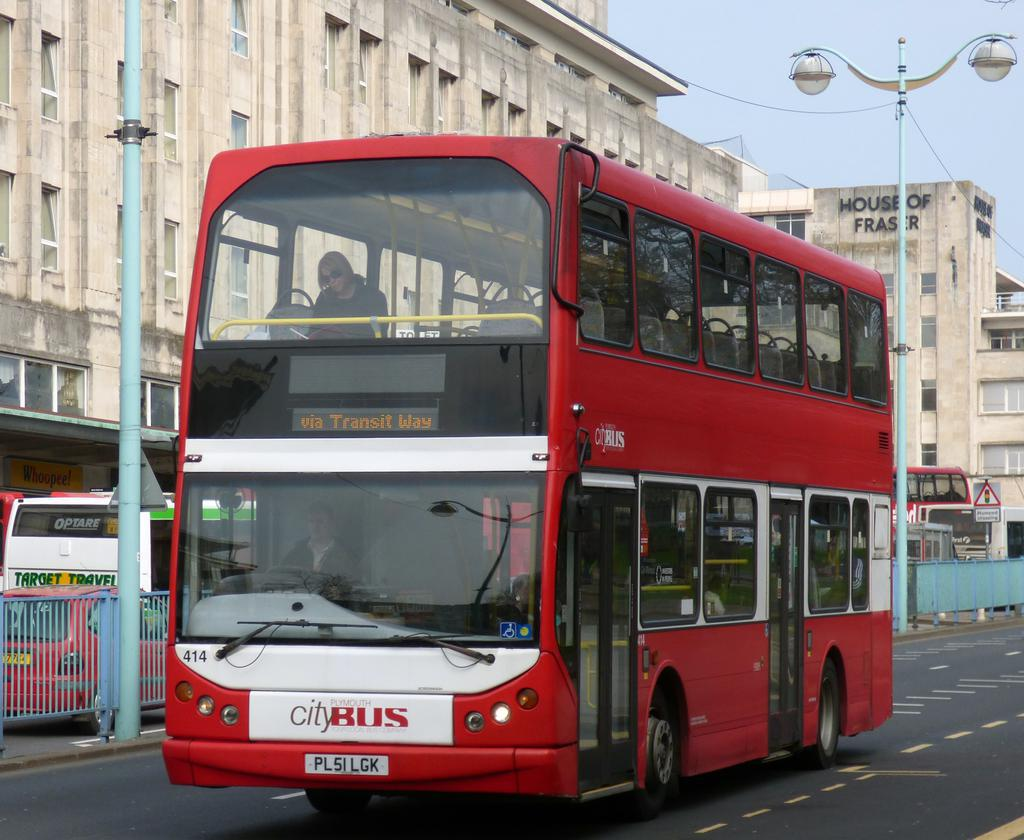License_Plate: (304, 755, 387, 774), (1, 654, 31, 666)
